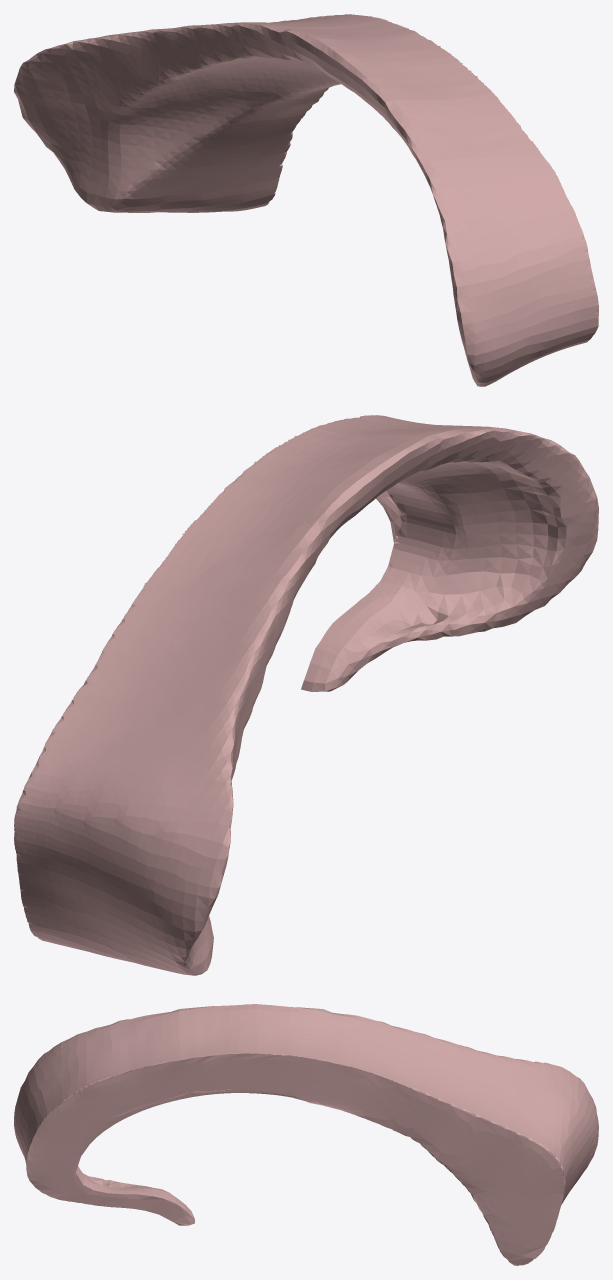
Rendered from Corpus_callosum2.obj.
3 views of the same model, one above another, from view 1: azimuth 30°, elevation 25°; view 2: azimuth 150°, elevation 25°; view 3: azimuth 270°, elevation 25° (orthographic). The views are drawn at different scales.
Parts seen in each view (by area): view 1: obj0; view 2: obj0; view 3: obj0.
Part boxes in pixels (x1=…): obj0: x1=14, y1=14, x2=598, y2=386; obj0: x1=14, y1=415, x2=598, y2=975; obj0: x1=14, y1=1004, x2=598, y2=1265.
Bounding box in the file's own units: 18.26 × 26.6 × 62.66.
1 material, 1 textured.
